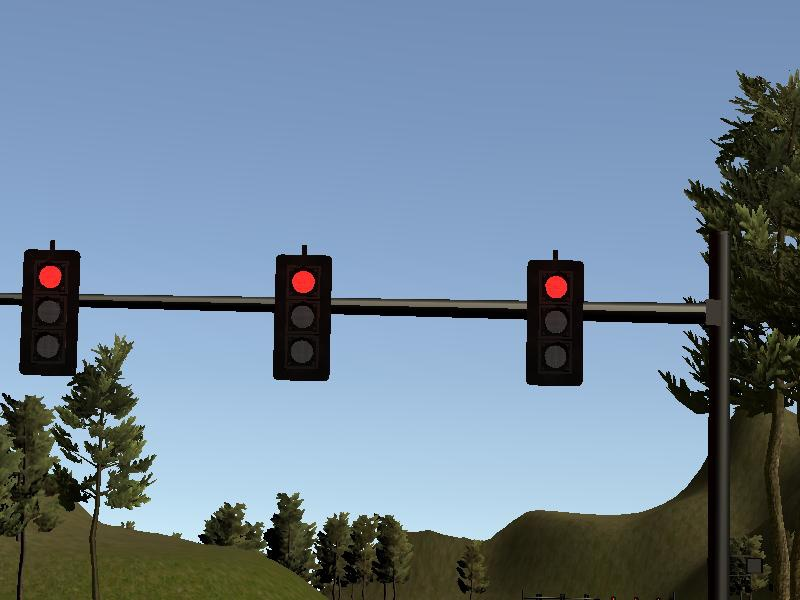Red: (527, 260, 583, 386), (277, 252, 330, 381), (23, 249, 73, 374)
